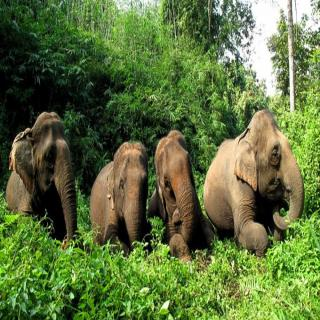Elephant: (201, 104, 308, 254), (5, 107, 80, 248), (148, 126, 208, 270), (86, 138, 150, 262)
